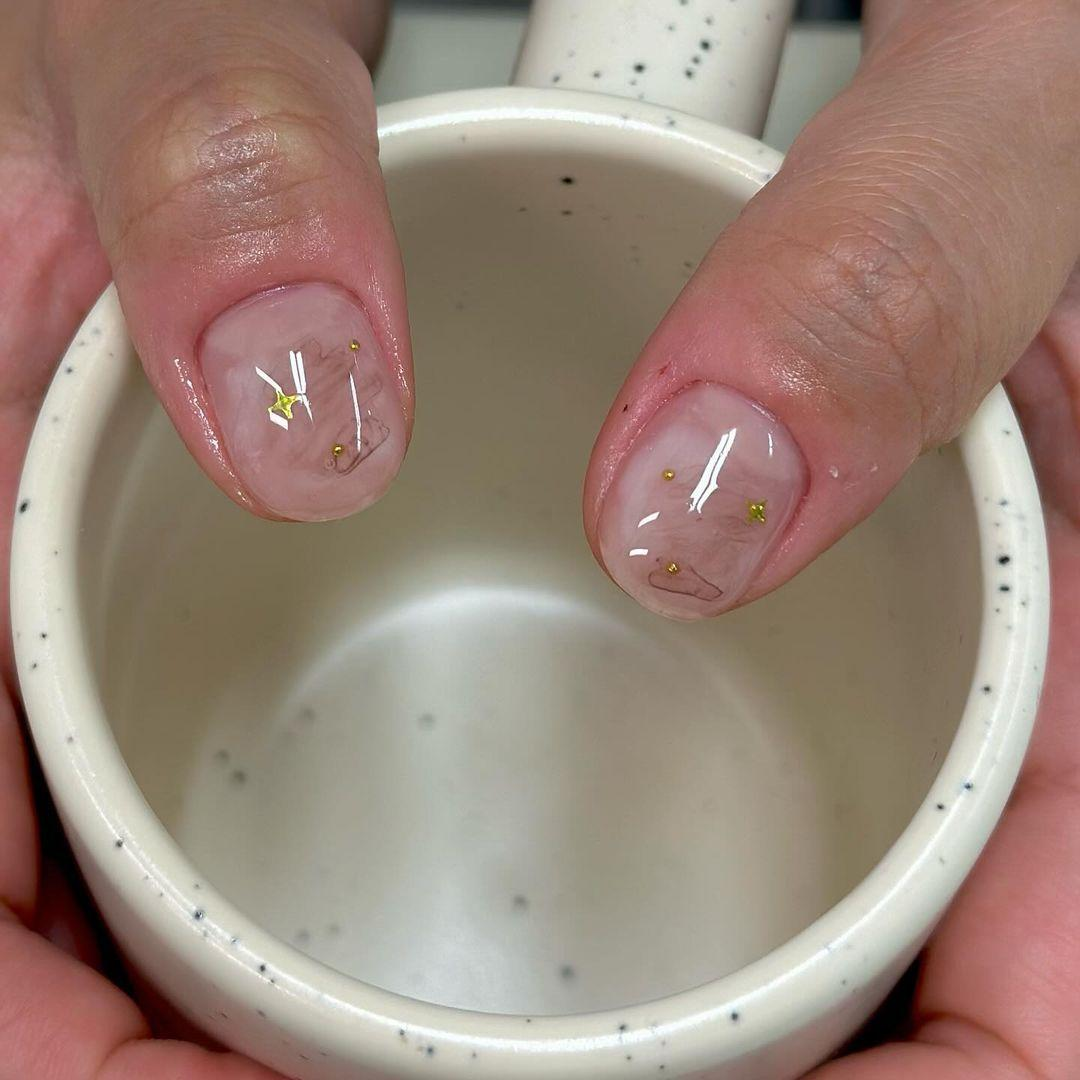nail: (588, 376, 811, 620), (193, 276, 405, 521)
